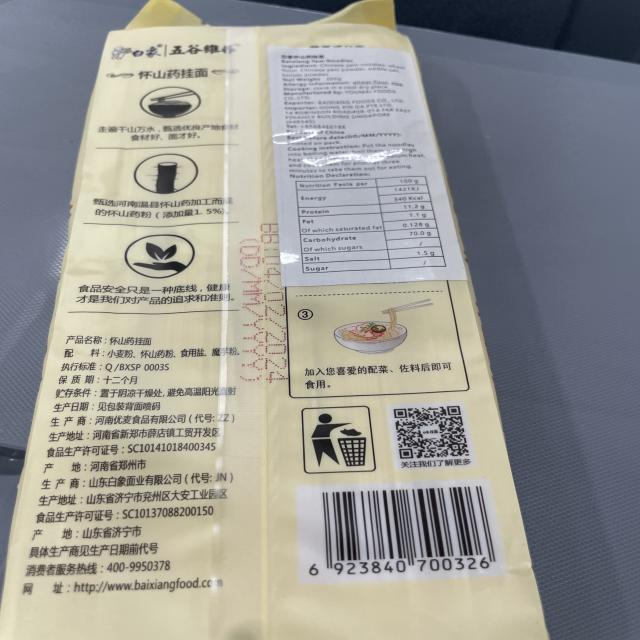object_name: (62, 28, 515, 640)
